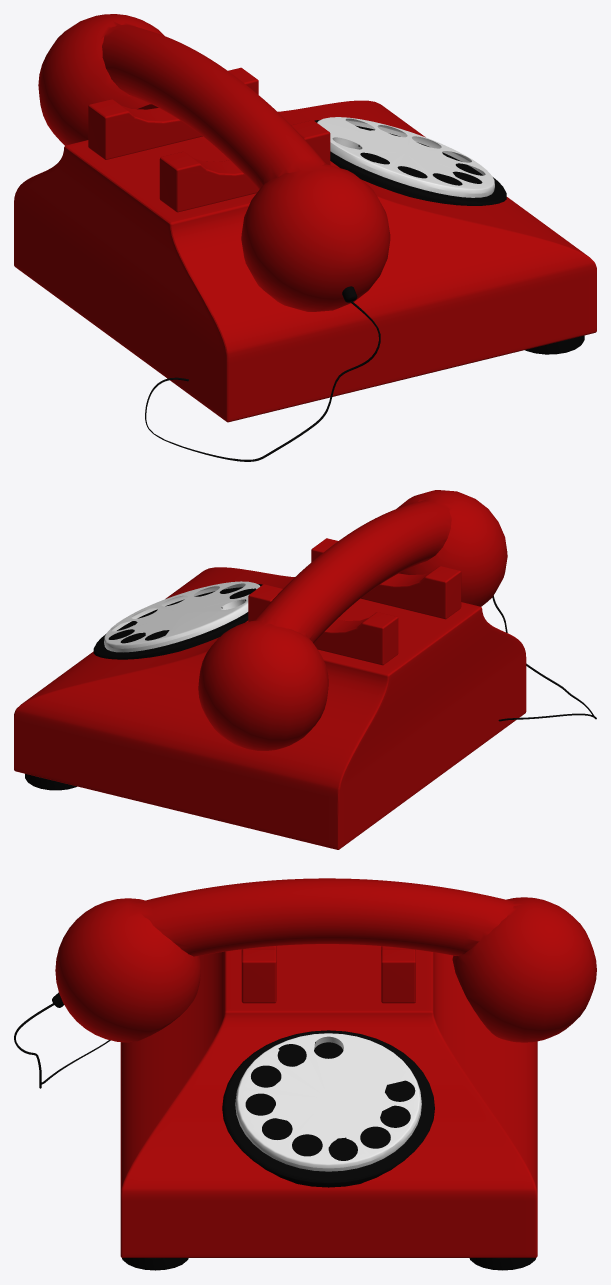
Rendered from Phone.fbx.
3 renders of one model, top to bottom at view 1: azimuth 30°, elevation 25°; view 2: azimuth 150°, elevation 25°; view 3: azimuth 270°, elevation 25°, orthographic. The views are drawn at different scales.
Parts seen in each view (by area): view 1: pCube1, pSphere5, pCylinder37, pCube4, pCube3, pCylinder10, extrudedSurface1, pCylinder3; view 2: pCube1, pSphere5, pCylinder37, pCube3, pCube4, pCylinder10, extrudedSurface1; view 3: pCube1, pSphere5, pCylinder37, pCylinder10, pCube4, pCube3, pCylinder3, pCylinder2.
Boxes of the visible parts, x1,y1,x2,y2 form: pCube1: (14, 100, 596, 422); pSphere5: (38, 14, 390, 311); pCylinder37: (317, 117, 494, 197); pCube4: (159, 120, 330, 212); pCube3: (88, 67, 258, 159); pCylinder10: (314, 120, 506, 205); extrudedSurface1: (145, 301, 380, 461); pCylinder3: (525, 335, 584, 354); pCube1: (14, 567, 526, 849); pSphere5: (198, 490, 507, 750); pCylinder37: (104, 581, 260, 652); pCube3: (248, 584, 398, 665); pCube4: (311, 538, 461, 619); pCylinder10: (93, 584, 262, 659); extrudedSurface1: (492, 595, 596, 721); pCube1: (120, 944, 537, 1257); pSphere5: (55, 878, 596, 1042); pCylinder37: (235, 1033, 421, 1171); pCylinder10: (222, 1030, 434, 1187); pCube4: (241, 946, 276, 1003); pCube3: (381, 946, 415, 1003); pCylinder3: (122, 1258, 188, 1270); pCylinder2: (469, 1258, 535, 1270).
Bounding box in the file's own units: 14.58 × 8.19 × 16.77.
